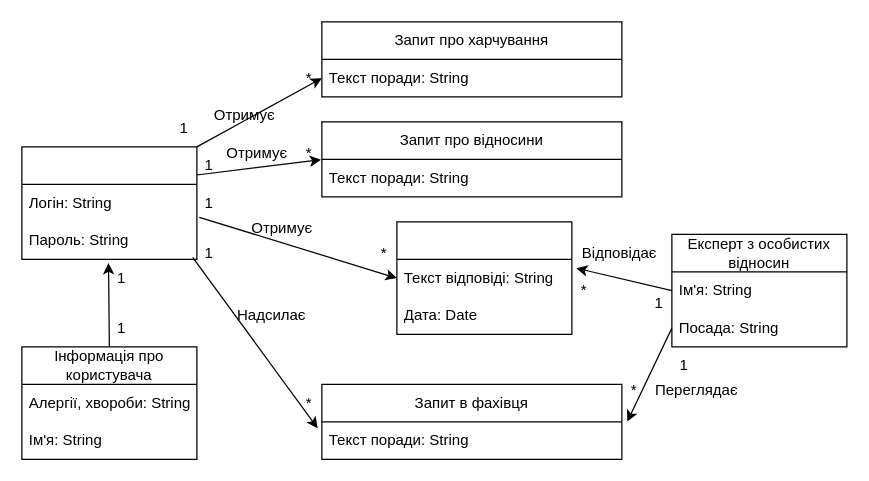
Some shapes in this 869 by 481 pixel diagram are drawn without their labels. Here are the shapes that lost their labels. From the top down, the box of each, then its label:
(21, 146, 197, 259): Користувач
(396, 221, 572, 334): Відповідь на запит
